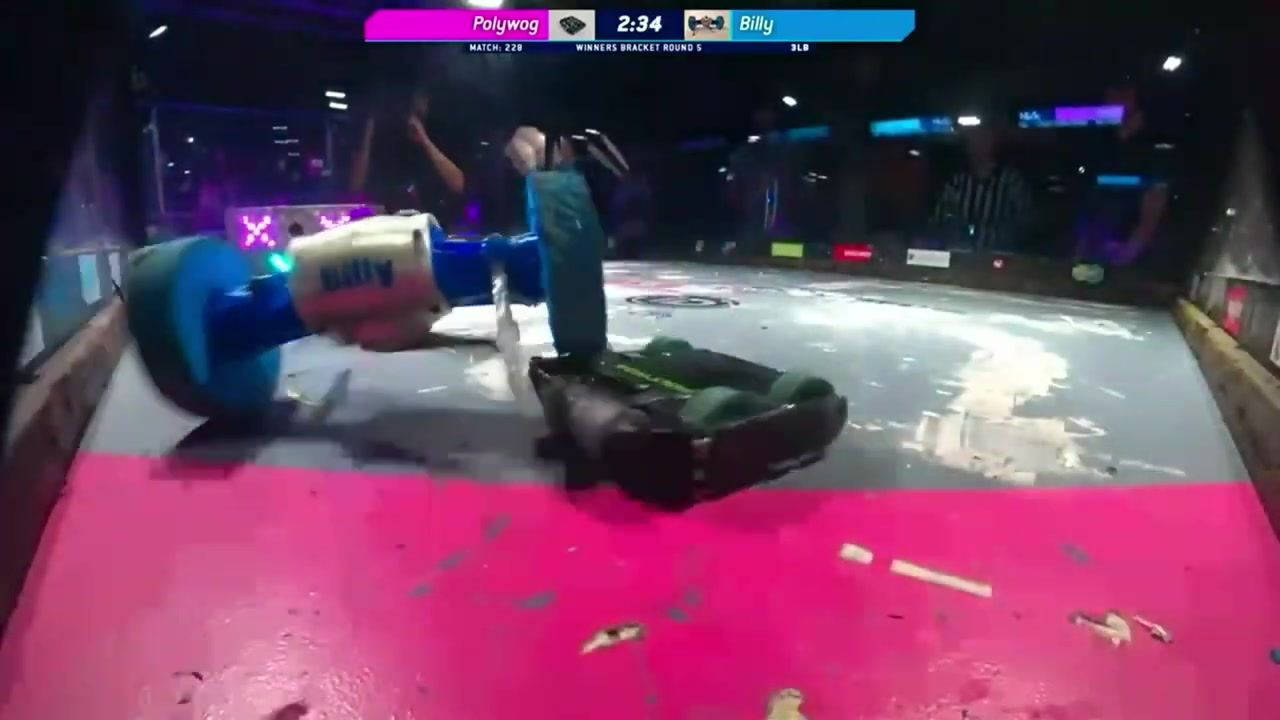combatbot: (127, 175, 621, 423), (527, 335, 848, 499)
